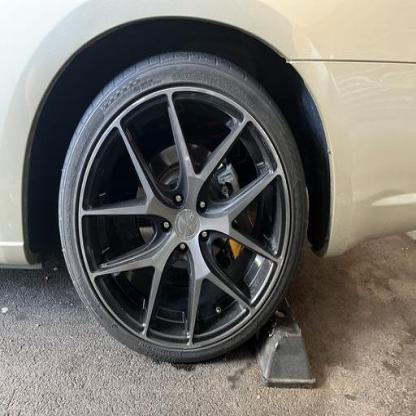Tire: (56, 49, 309, 365)
